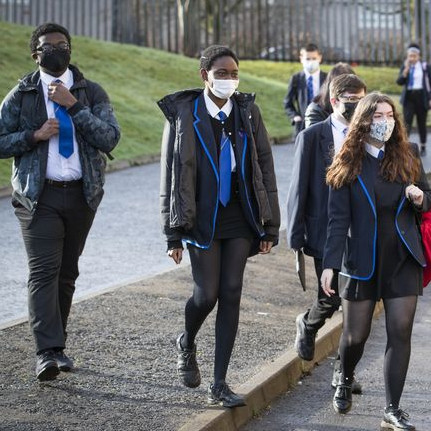human: (156, 45, 279, 407), (1, 23, 120, 383), (323, 93, 431, 431), (285, 74, 363, 361), (286, 44, 331, 144), (395, 42, 431, 159)
mask: (200, 44, 239, 98), (31, 24, 70, 74), (359, 94, 397, 143), (331, 74, 366, 122), (299, 44, 323, 74)
no_mask: (406, 43, 420, 64)
